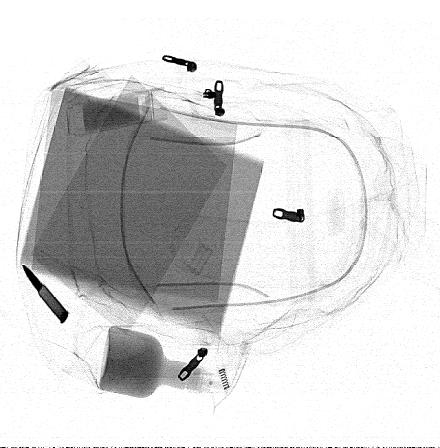Bullet: (22, 263, 70, 326)
